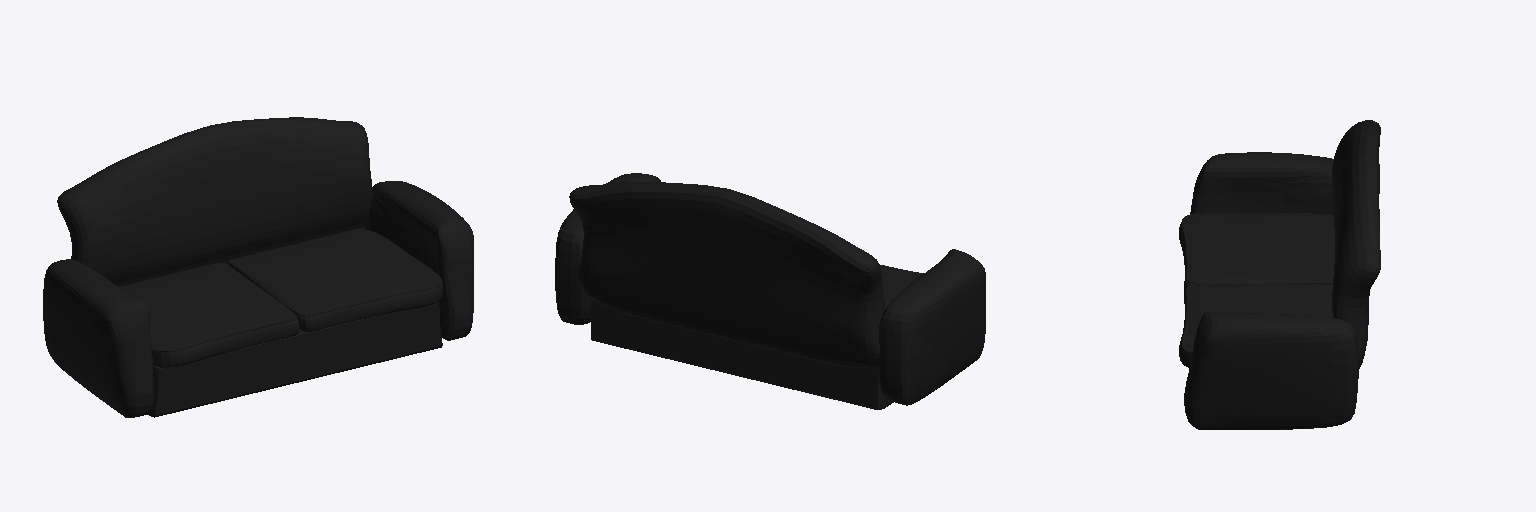
Rendered from simple_sofa3.obj.
3 renders of one model, left to right at view 1: azimuth 30°, elevation 25°; view 2: azimuth 150°, elevation 25°; view 3: azimuth 270°, elevation 25°, orthographic.
Parts seen in each view (by area): view 1: sofa_Cube_Material.004; view 2: sofa_Cube_Material.004; view 3: sofa_Cube_Material.004.
Part boxes in pixels (bbox=[...]): sofa_Cube_Material.004: bbox=[43, 117, 473, 417]; sofa_Cube_Material.004: bbox=[555, 173, 985, 409]; sofa_Cube_Material.004: bbox=[1179, 120, 1380, 429].
Bounding box in the file's own units: 16.66 × 8.4 × 7.9.